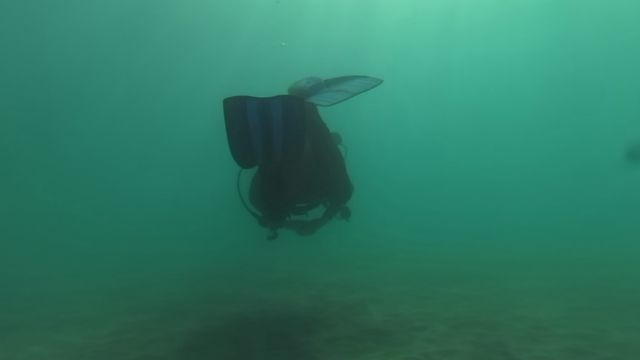Diver: (197, 56, 385, 253)
